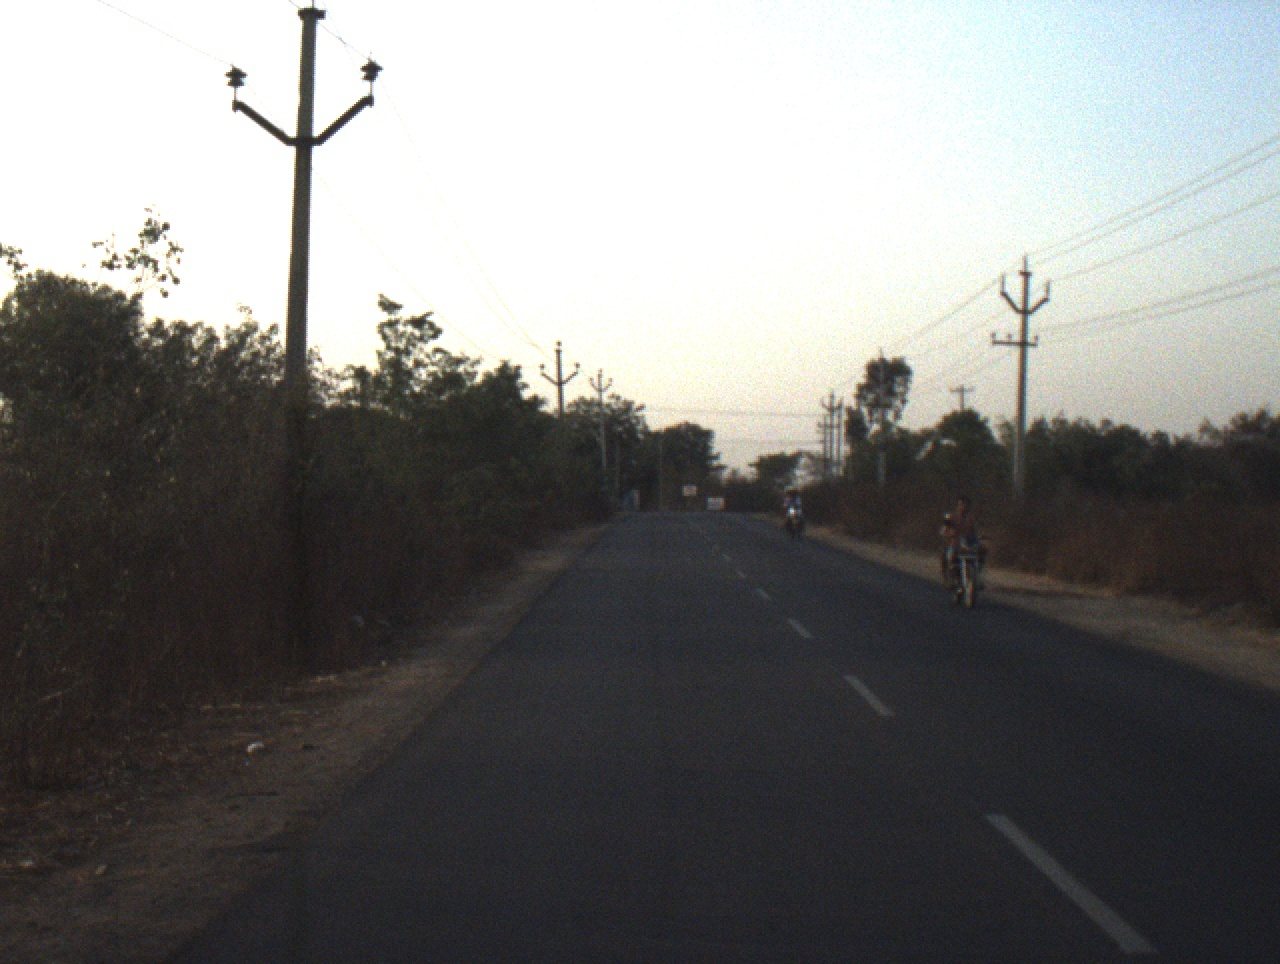motorcycle: (933, 520, 993, 614), (781, 503, 805, 536)
rider: (934, 498, 988, 602), (782, 489, 805, 532)
vehicle fallback: (705, 496, 727, 509)
